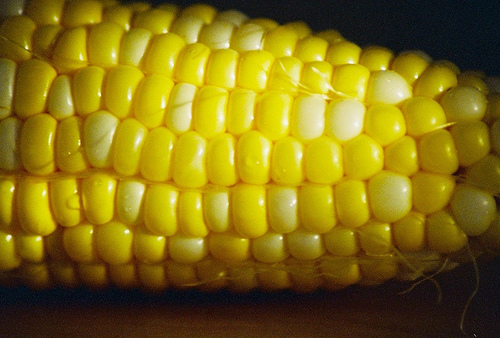corn: (2, 1, 498, 289)
